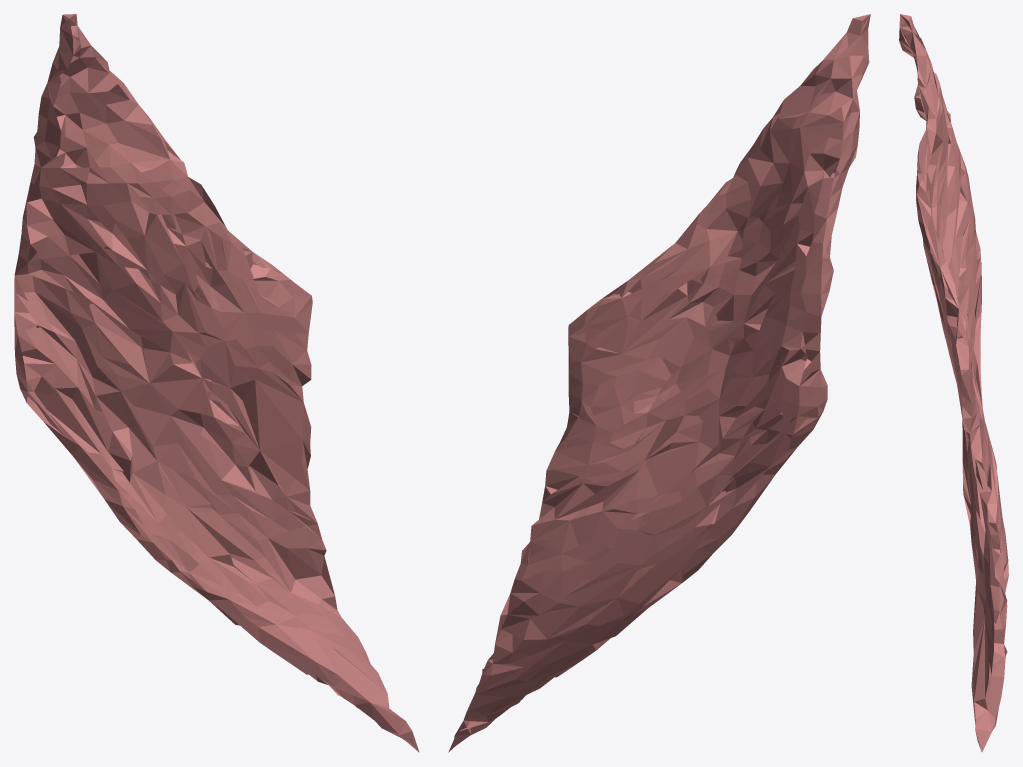
File: Rhomboid_major_muscle.l.glb
The picture shows the model from 3 angles, left to right: view 1: azimuth 30°, elevation 25°; view 2: azimuth 150°, elevation 25°; view 3: azimuth 270°, elevation 25°; orthographic projection. The views are drawn at different scales.
Parts seen in each view (by area): view 1: Rhomboid_major_muscle.l; view 2: Rhomboid_major_muscle.l; view 3: Rhomboid_major_muscle.l.
Part boxes in pixels (box(x1,y1,x2,y2)): Rhomboid_major_muscle.l: box(14, 14, 419, 752); Rhomboid_major_muscle.l: box(448, 14, 870, 752); Rhomboid_major_muscle.l: box(899, 14, 1008, 752).
Size of the model in its own units: 0.0872 by 0.1776 by 0.0294.
